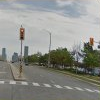crosswalk: (0, 80, 100, 93)
